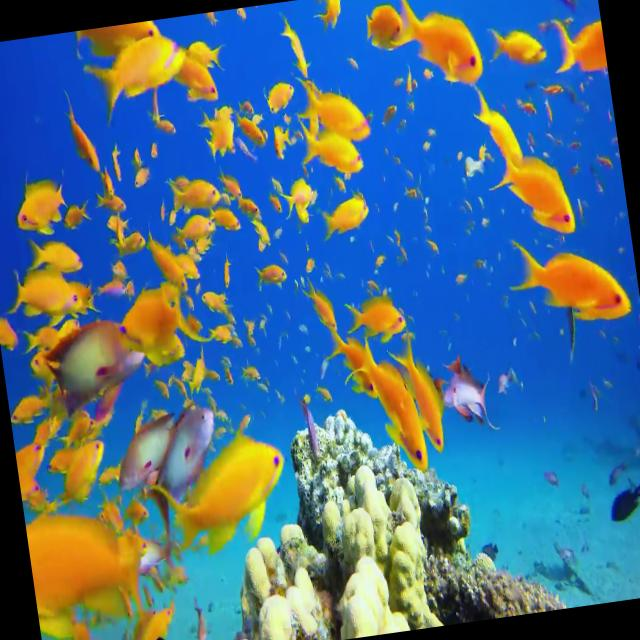fish: (25, 506, 150, 640), (165, 433, 292, 559), (137, 399, 230, 546), (506, 226, 630, 332), (44, 317, 156, 423), (352, 332, 432, 480), (98, 16, 194, 116), (395, 0, 484, 86), (492, 141, 574, 234), (112, 414, 184, 502), (5, 254, 86, 332), (294, 72, 374, 144), (396, 342, 448, 448), (158, 38, 222, 114), (472, 76, 526, 162), (298, 116, 364, 184), (342, 290, 413, 346), (11, 176, 72, 240), (60, 439, 115, 506), (441, 370, 502, 424), (144, 234, 194, 296), (165, 170, 222, 221), (489, 22, 547, 72), (302, 278, 342, 340), (325, 193, 371, 246), (363, 0, 405, 46), (278, 14, 308, 72), (204, 114, 237, 153)
